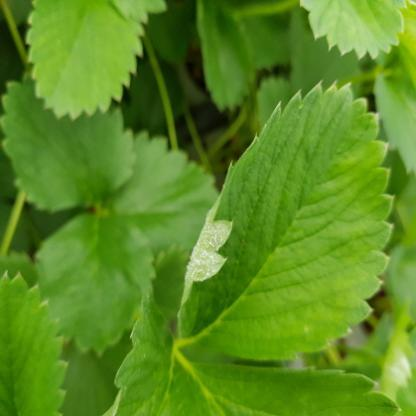Strawberry_Powdery_Mildew_Leaf: (177, 78, 395, 360)
